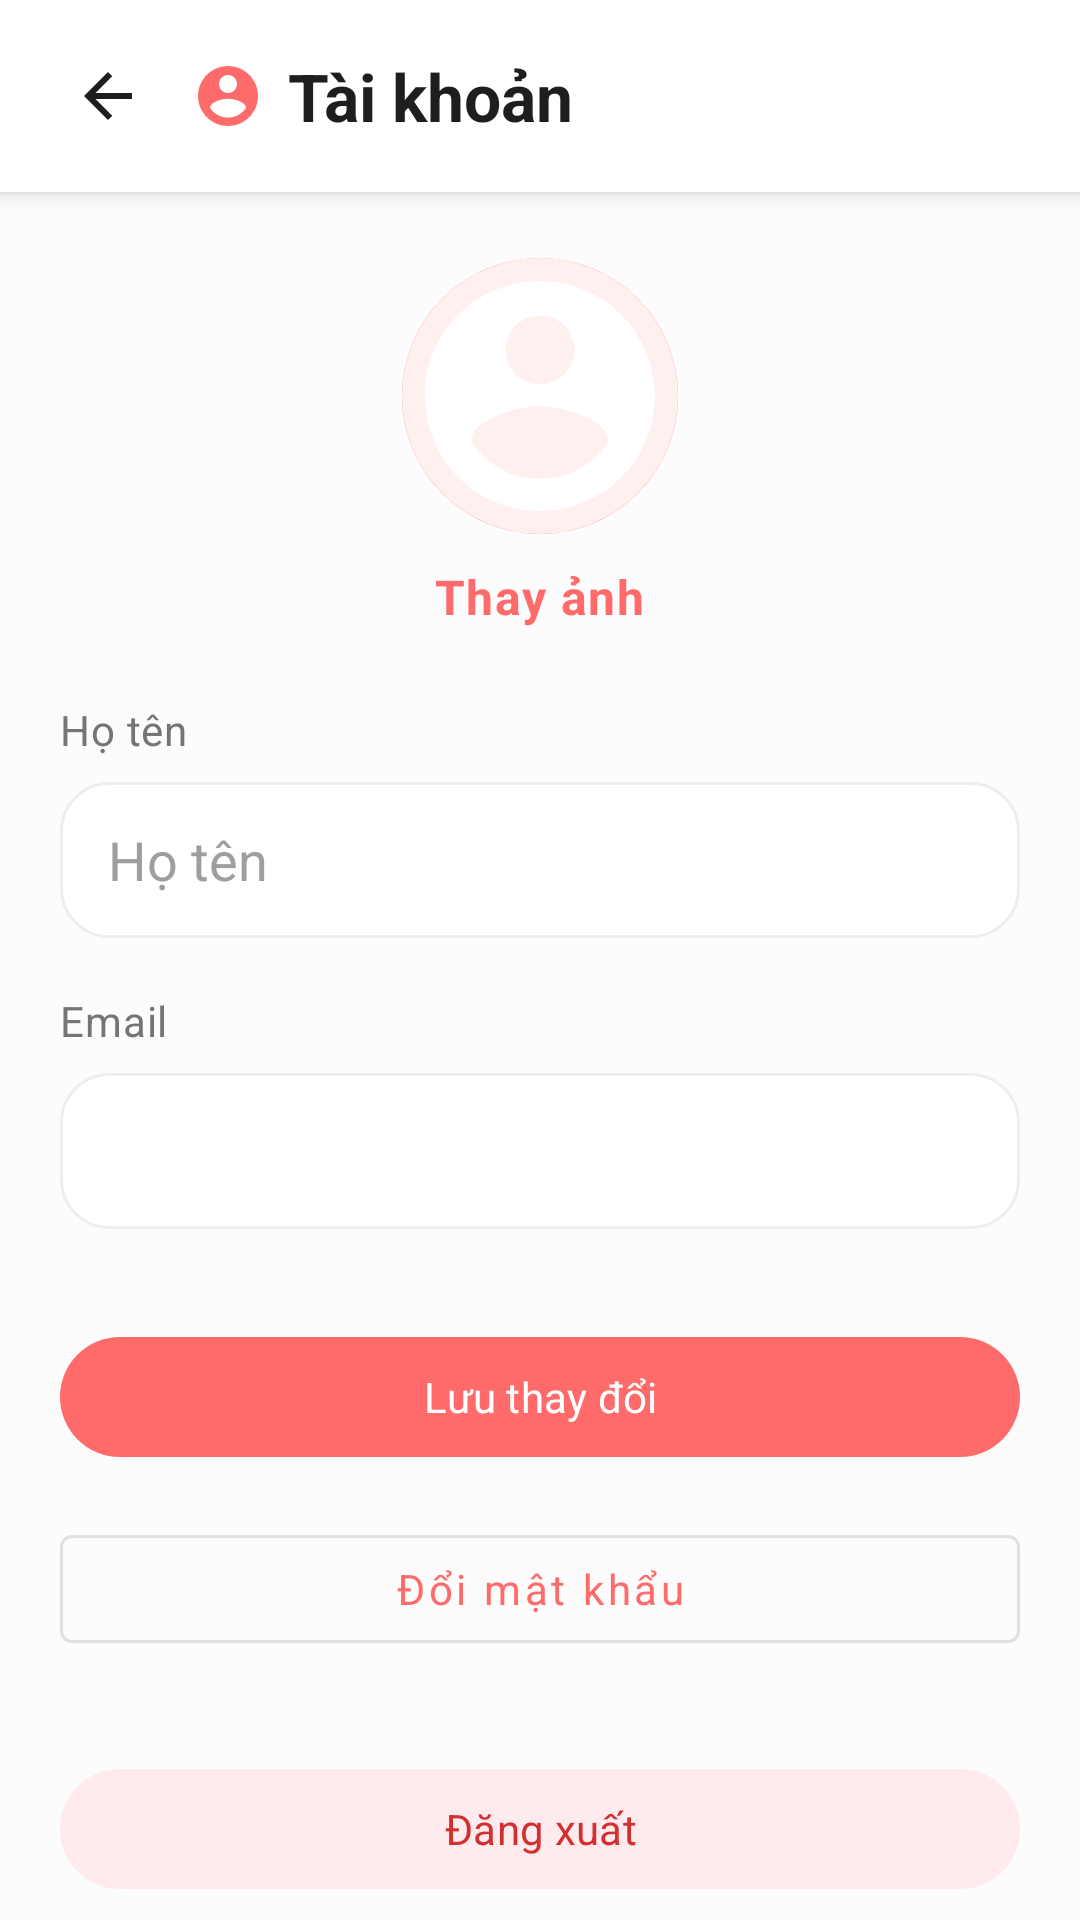

Point at icon controls on the screen. Image size 1080x1920, points as point (x, y).
profile: point (540, 396)
Profile Icon: point (228, 96)
Quay lại: point (108, 96)
